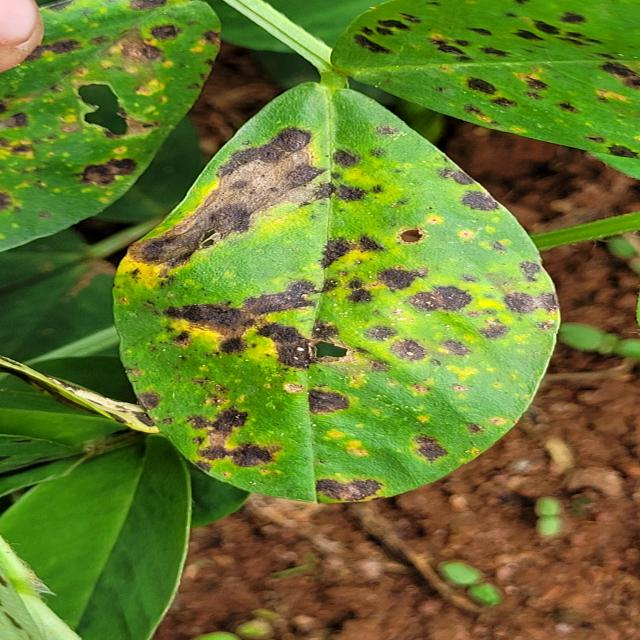Ground nut_tikka leaf spot: (113, 78, 558, 506)
